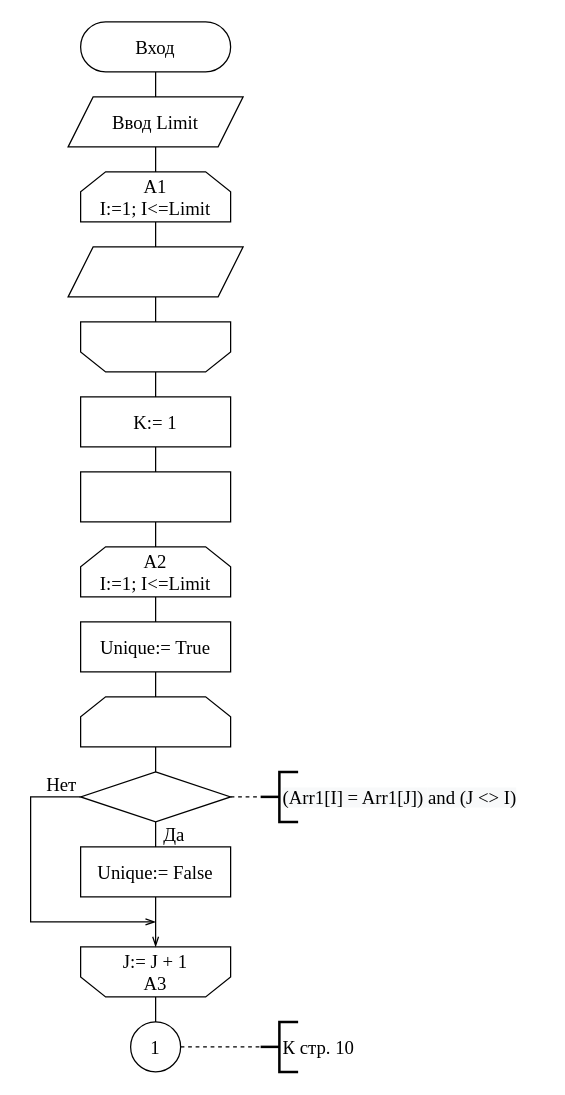
This 565x1095 diagram has some shape labels left out. Each missing label, with the centre of its shape:
I:= I + 1 A1: the point at 155,346
Quantity:= 0: the point at 155,496
А3 J:=1; J<=Limit: the point at 155,721
Ввод Arr1[I]: the point at 155,271
